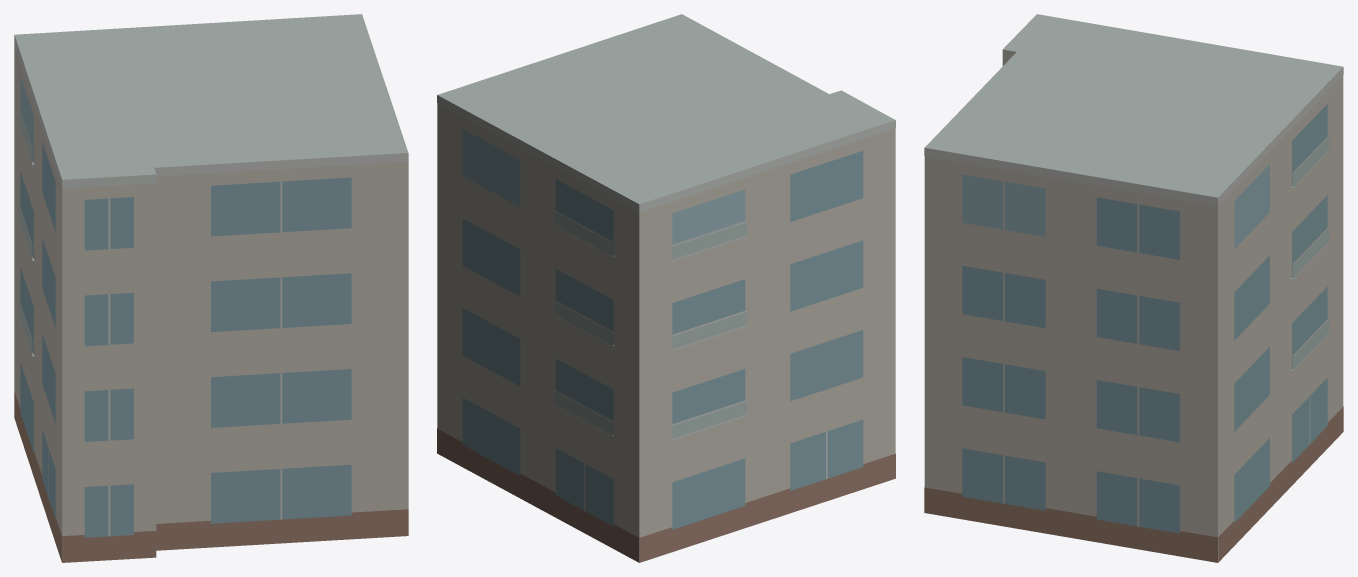
File: survey-upis-32599352.glb
The picture shows the model from 3 angles, left to right: view 1: azimuth 30°, elevation 25°; view 2: azimuth 150°, elevation 25°; view 3: azimuth 270°, elevation 25°; orthographic projection. The views are drawn at different scales.
Visible parts, largest first — view 1: survey-upis-32599352.tmp; view 2: survey-upis-32599352.tmp; view 3: survey-upis-32599352.tmp.
Boxes of the visible parts, left/top/right/bottom form: survey-upis-32599352.tmp: left=14, top=14, right=408, bottom=562; survey-upis-32599352.tmp: left=437, top=14, right=895, bottom=562; survey-upis-32599352.tmp: left=924, top=14, right=1343, bottom=562.
Size of the model in its own units: 11.52 by 10.67 by 11.11.
